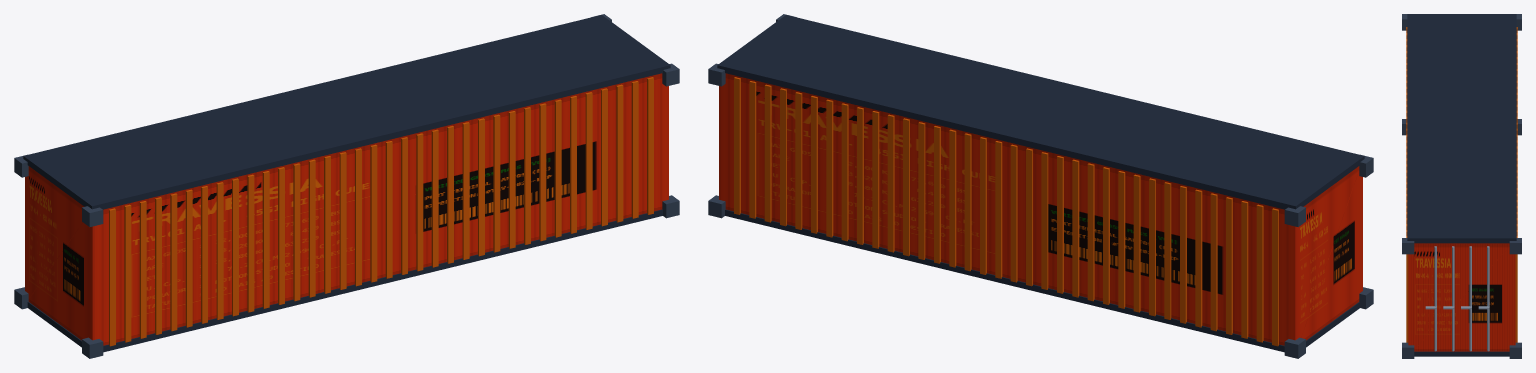
File: carga-container.glb
3 renders of one model, left to right at view 1: azimuth 30°, elevation 25°; view 2: azimuth 150°, elevation 25°; view 3: azimuth 270°, elevation 25°, orthographic. The views are drawn at different scales.
Visible parts, largest first — view 1: CargaContainer; view 2: CargaContainer; view 3: CargaContainer.
Boxes of the visible parts, left/top/right/bottom form: CargaContainer: left=14, top=14, right=679, bottom=358; CargaContainer: left=708, top=14, right=1373, bottom=358; CargaContainer: left=1402, top=14, right=1521, bottom=358.
Bounding box in the file's own units: 12.28 × 2.96 × 2.72.
Materials: 5 (1 with a texture image).
